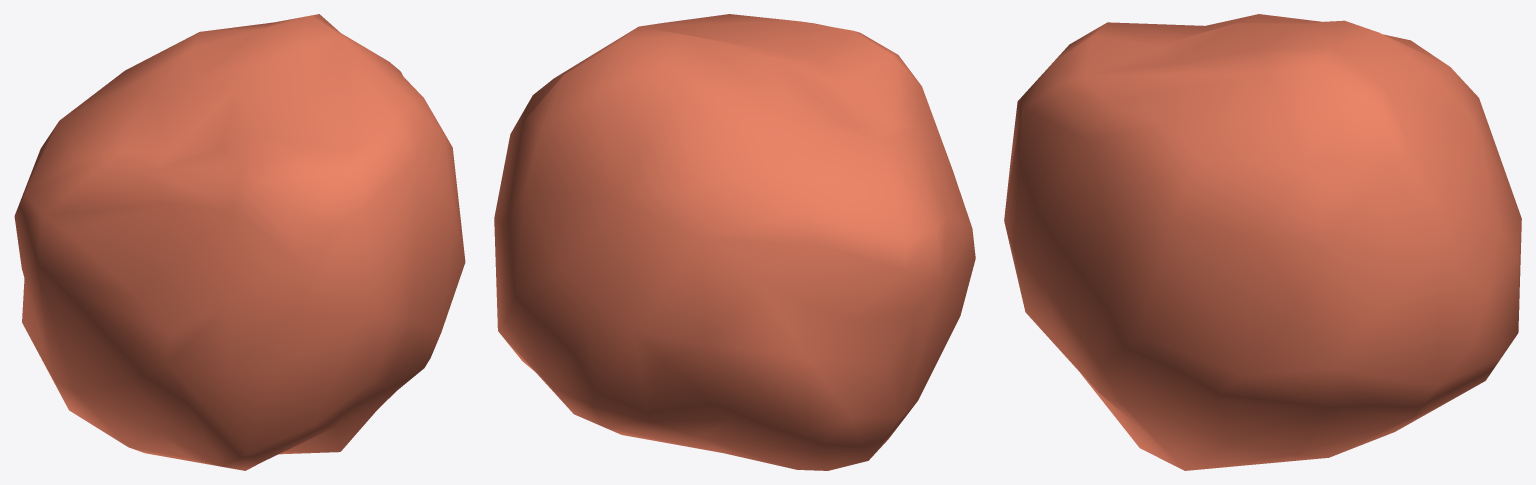
File: Tumor.gltf
3 views of the same model, side by side, from view 1: azimuth 30°, elevation 25°; view 2: azimuth 150°, elevation 25°; view 3: azimuth 270°, elevation 25° (orthographic). The views are drawn at different scales.
Visible parts, largest first — view 1: Cube; view 2: Cube; view 3: Cube.
Boxes of the visible parts, box(x1,y1,x2,y2) form: Cube: box(14, 14, 465, 470); Cube: box(494, 14, 975, 470); Cube: box(1004, 14, 1521, 470).
Size of the model in its own units: 1.84 by 1.69 by 1.83.
